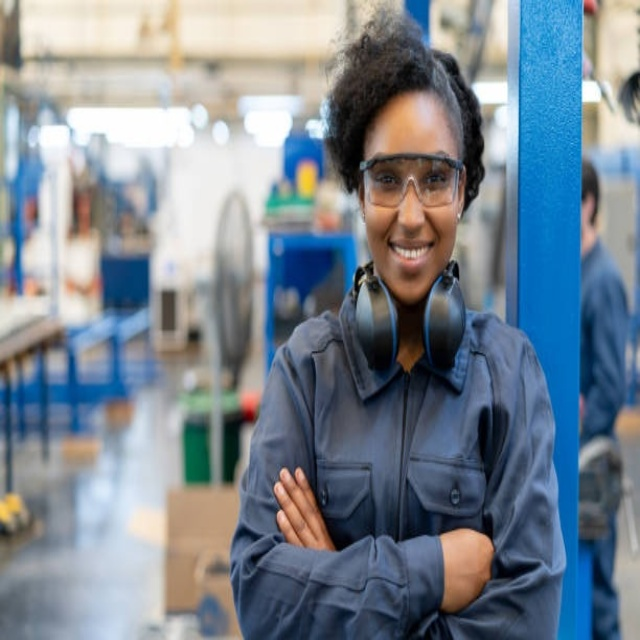Gafas: (359, 156, 465, 208)
Sin_guantes: (272, 466, 336, 551)
Sin_mascara: (387, 238, 435, 266)
